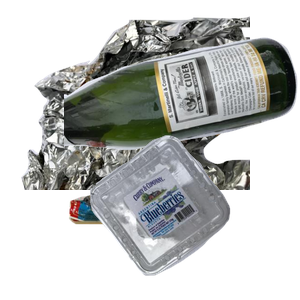glass: (64, 35, 300, 181)
metal: (19, 14, 259, 194)
plastic: (88, 133, 300, 300)
trash: (66, 173, 272, 300)
